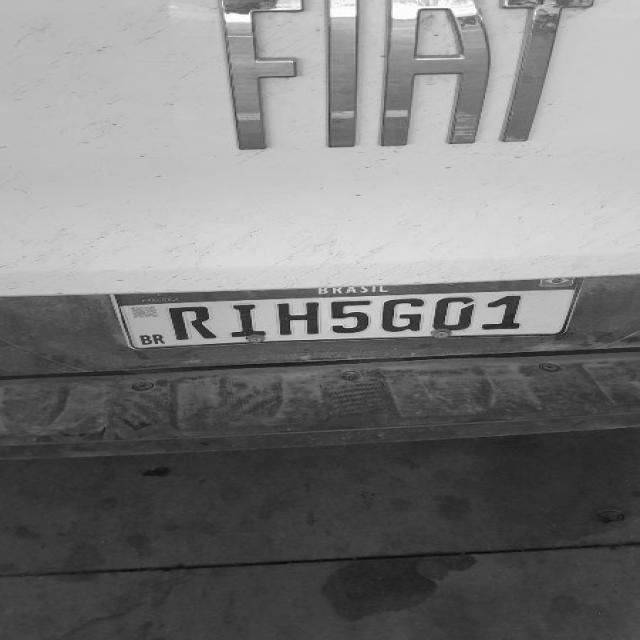placa_mercosul: (113, 278, 587, 349)
